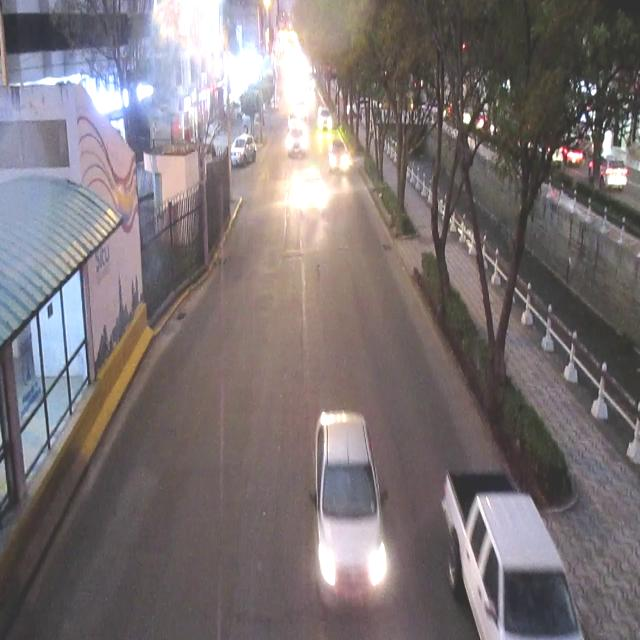CMT: (442, 471, 586, 640)
SED: (314, 416, 388, 606)
